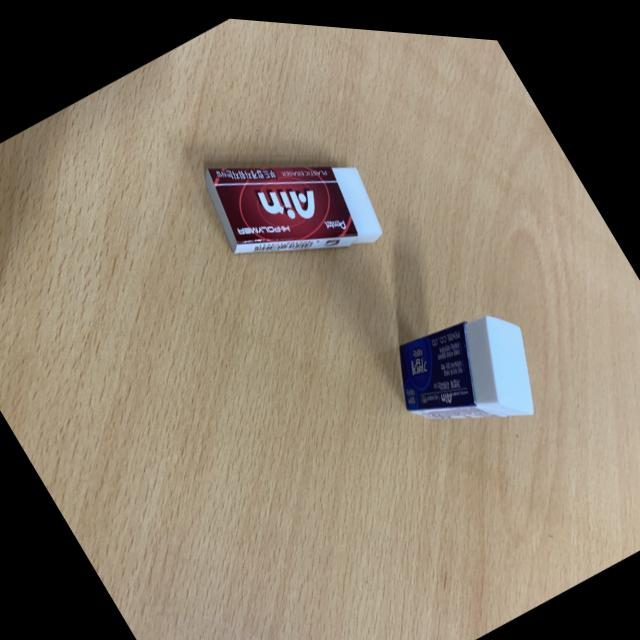red: (183, 87, 399, 312), (368, 268, 566, 472)
